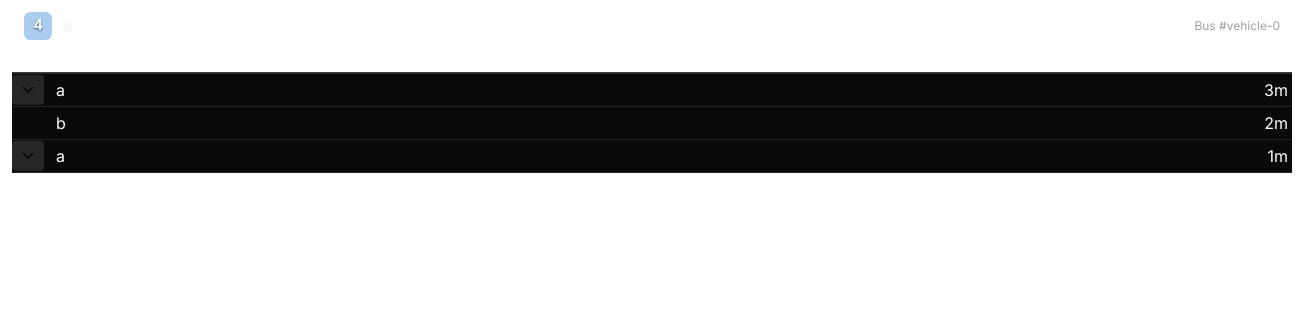
repeated stop visits use their own arrival times while only one transfer panel stays open
Click the 2nd button named "Transfers at a:": (28, 156) x1=12 y1=141 x2=44 y2=171
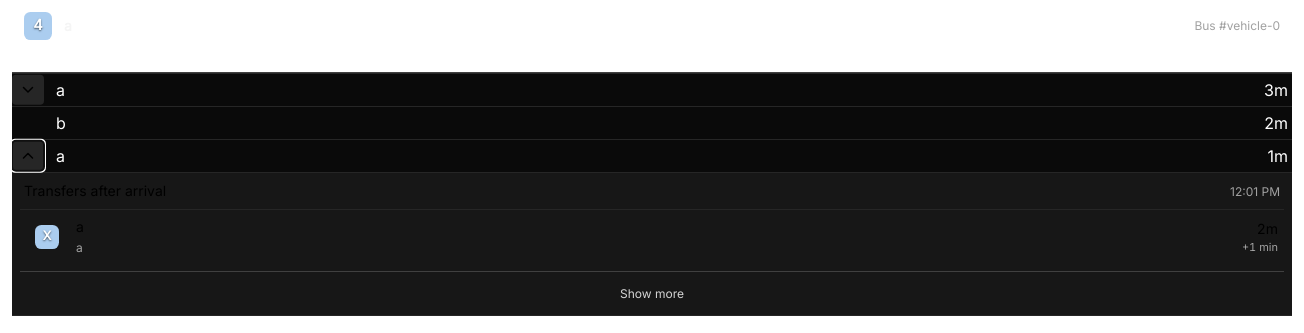
Result: the element "Transfers after arrival 12:01 PM X a a 2m +1 min Show more" is shown at x1=12 y1=173 x2=1292 y2=315
Result: the button "X a a 2m +1 min" is shown at x1=20 y1=210 x2=1284 y2=263
Click the 1st button named "Transfers at a:": (28, 90) x1=12 y1=75 x2=44 y2=105
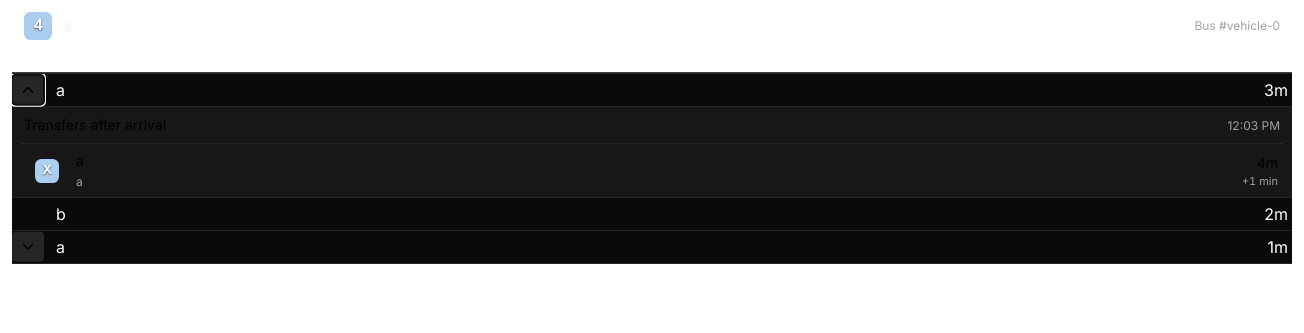
Result: the button "X a a 4m +1 min" is shown at x1=20 y1=144 x2=1284 y2=197
Result: the 2nd button named "Transfers at a:" is collapsed at x1=12 y1=232 x2=44 y2=262
